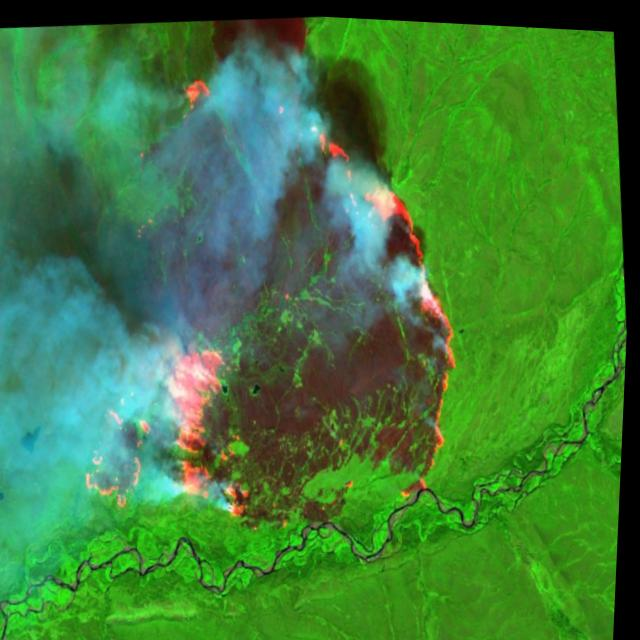fire: (45, 41, 488, 554)
